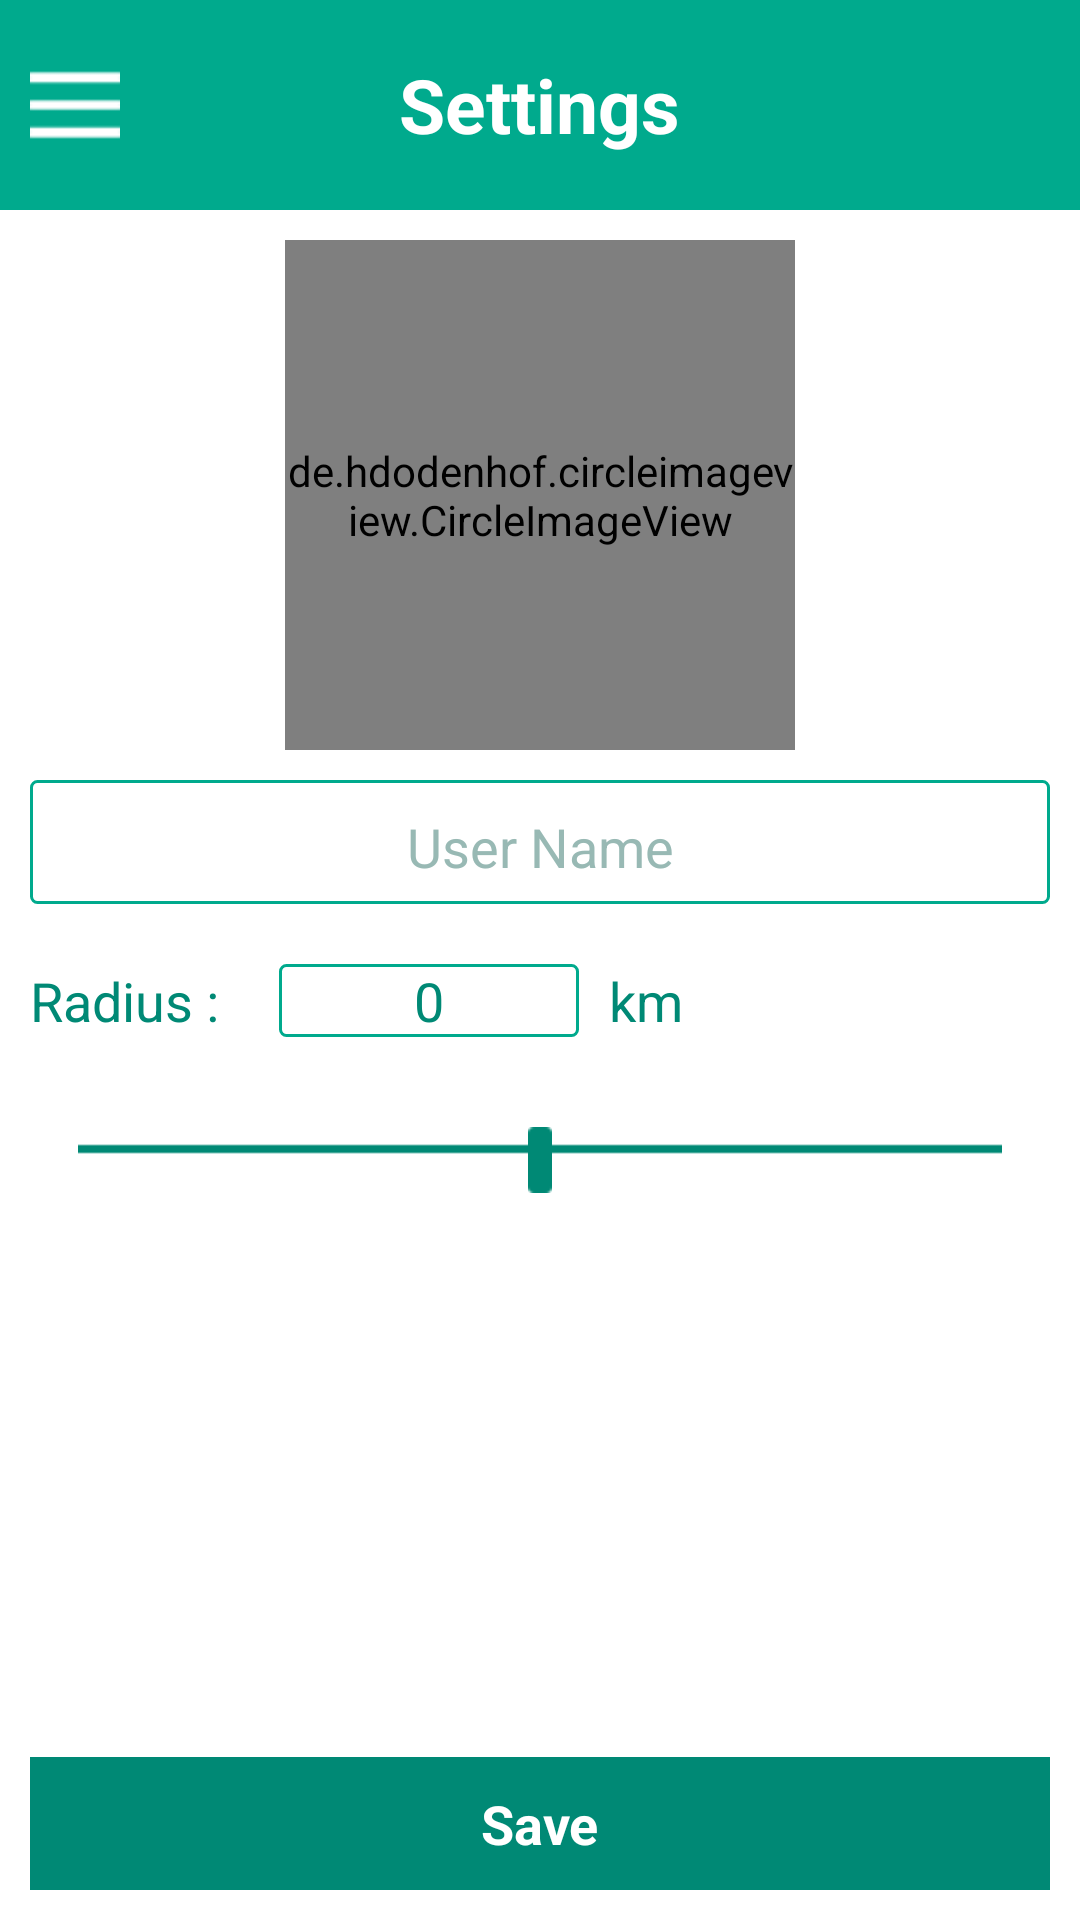

Screen size 1080w x 1920h. Icon name, then its center in pixels as point (x, y):
menu: point (75, 105)
